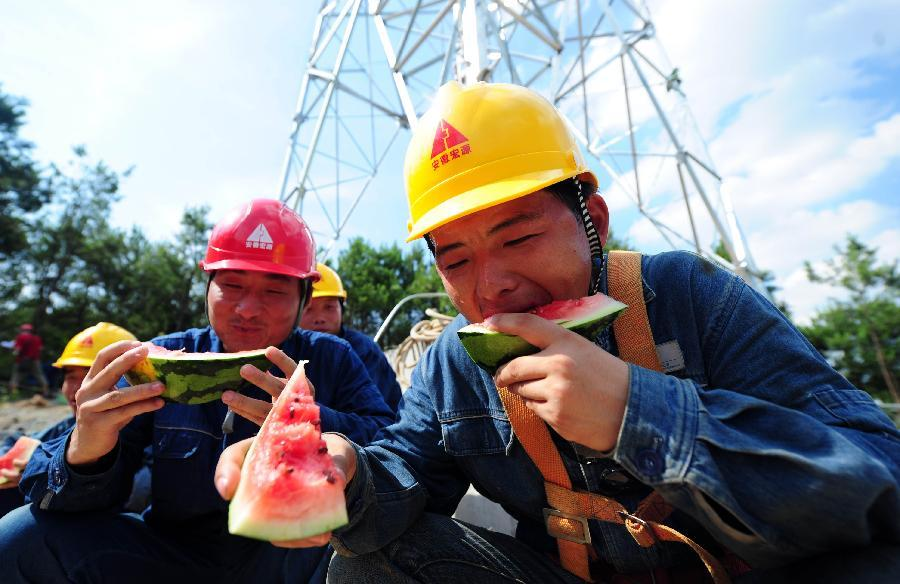helmet: (400, 80, 596, 244), (206, 200, 314, 277), (54, 324, 146, 374), (303, 265, 350, 303)
